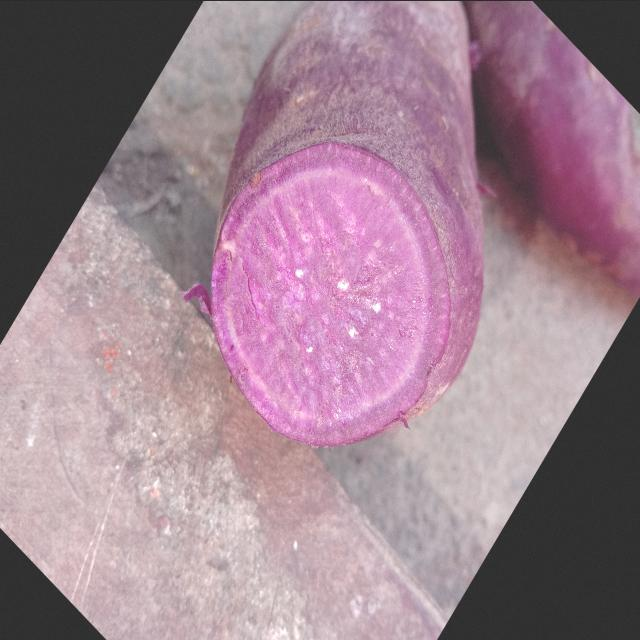Healthy Sweet Potato: (211, 142, 450, 445)
